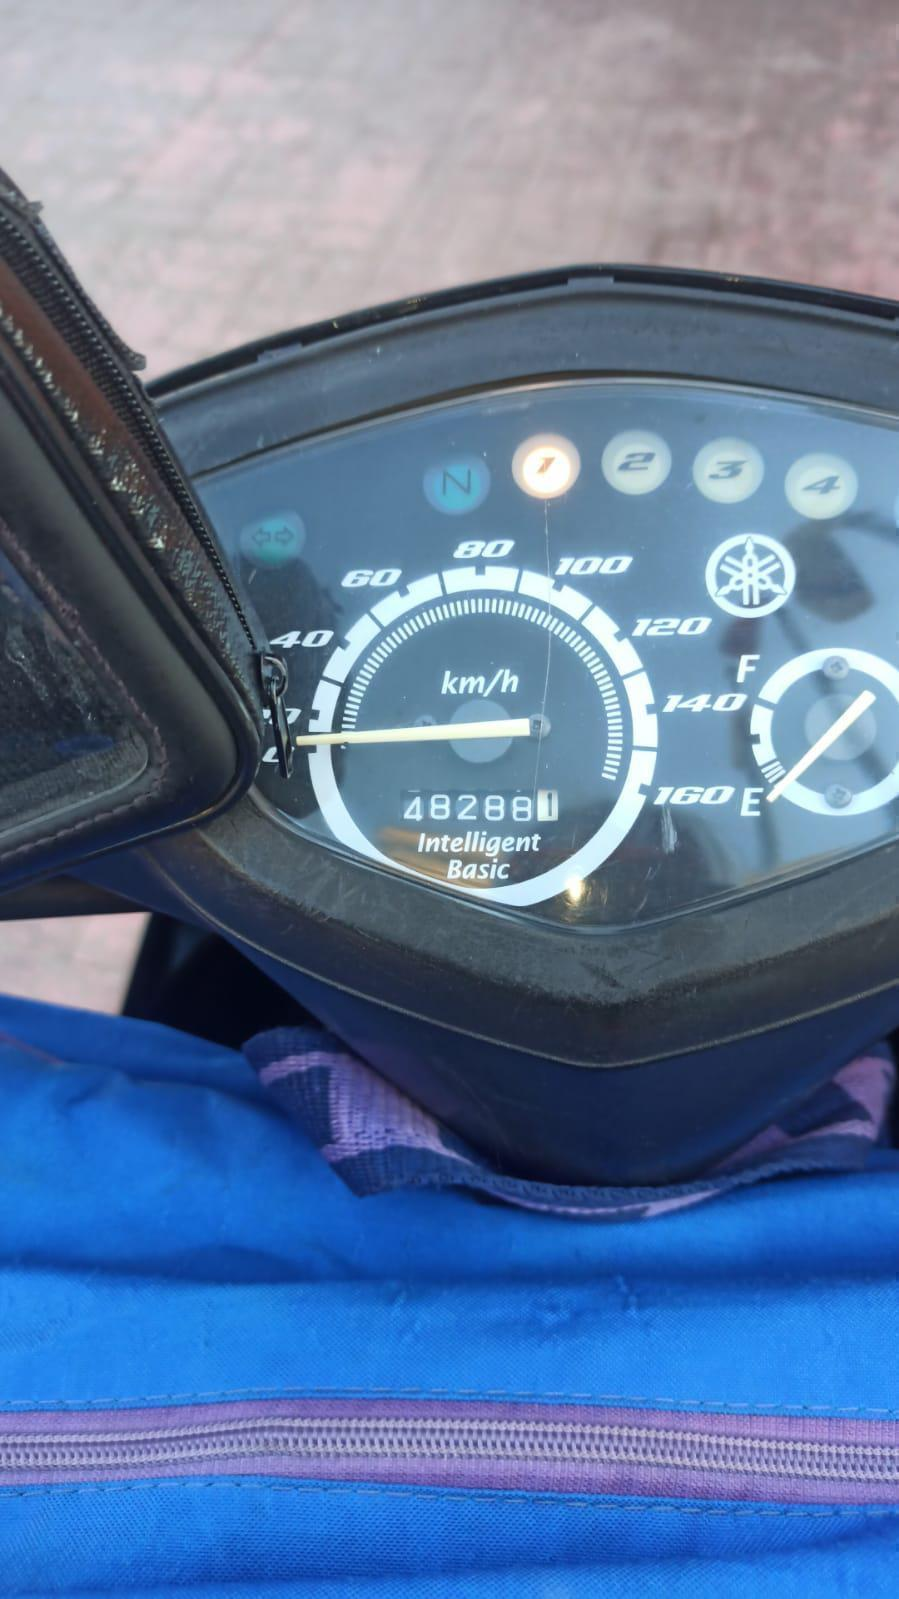1: (547, 792, 553, 816)
2: (456, 794, 477, 820)
4: (403, 796, 423, 821)
8: (483, 794, 505, 821), (429, 794, 450, 820), (512, 796, 532, 821)
odometer: (398, 787, 560, 824)
